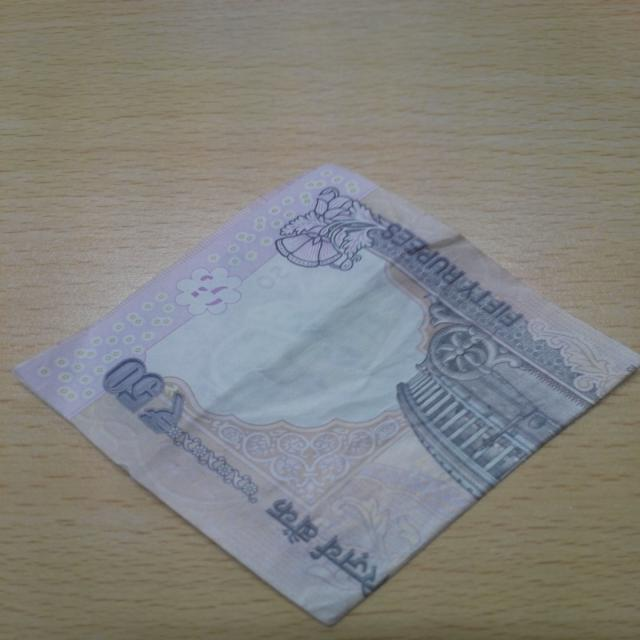50rs: (39, 161, 640, 631)
